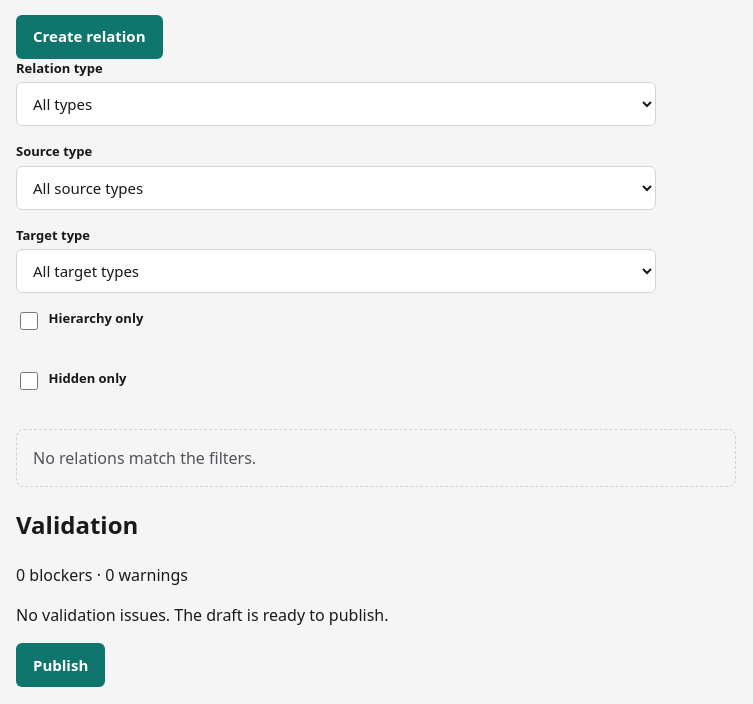
Test: AtlasEditorPage publish lifecycle (Plan B Task 15) › reflects Draft → Active after a successful publish
(page scrolled)
Click the button "Publish" at point(61, 665), box [16, 643, 105, 687]
(page scrolled)
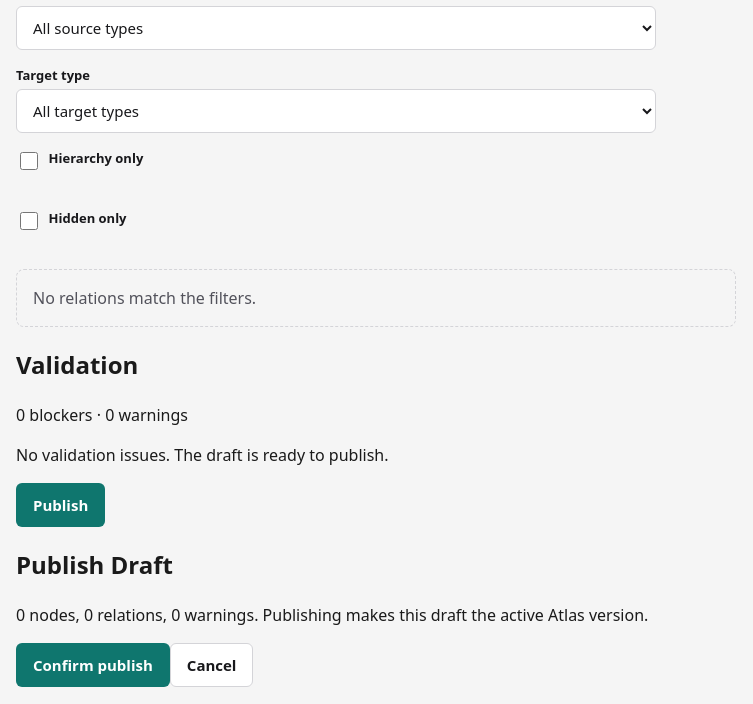
Result: the button "Confirm publish" is shown
Click the button "Confirm publish" at point(93, 665), box [16, 643, 170, 687]
(page scrolled)
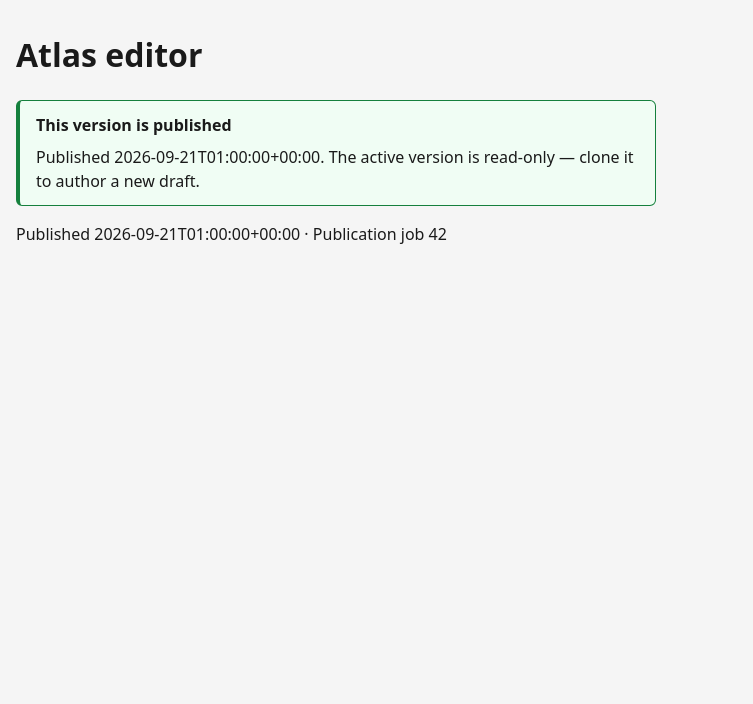
Result: the text "This version is published" is shown at [36, 114, 232, 136]
Result: the text "Published 2026-09-21T01:00:00+00:00 · Publication job 42" is shown at [16, 223, 447, 245]
